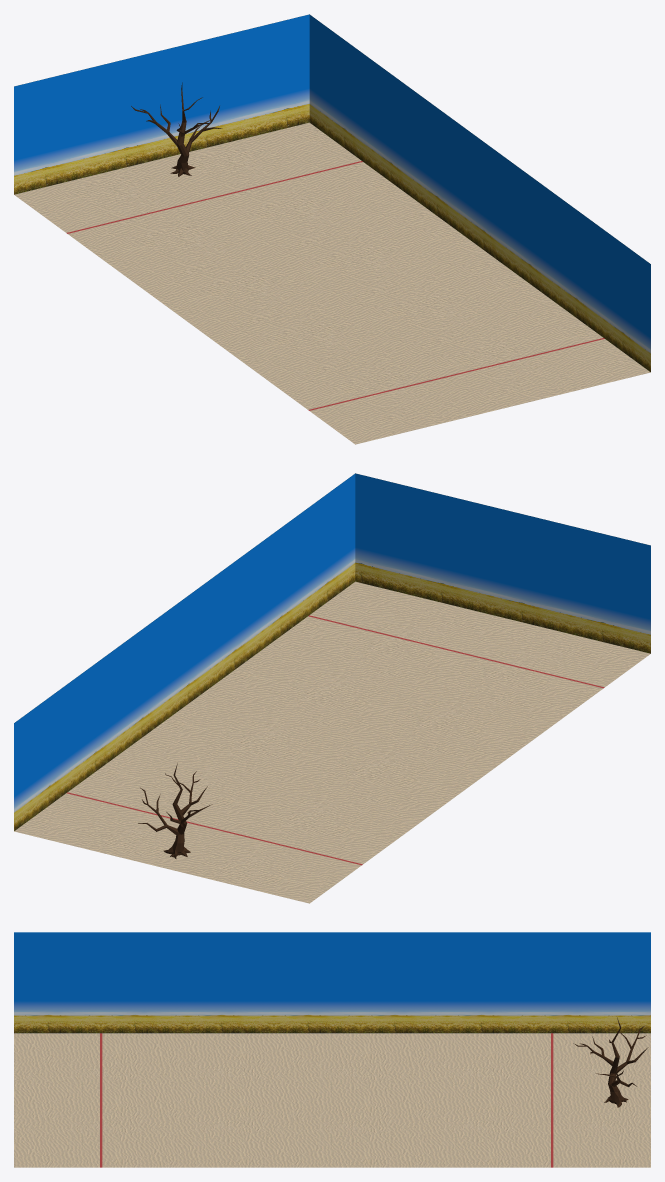
Rendered from squidgame.glb.
3 views of the same model, one above another, from view 1: azimuth 30°, elevation 25°; view 2: azimuth 150°, elevation 25°; view 3: azimuth 270°, elevation 25° (orthographic). The views are drawn at different scales.
Visible parts, largest first — view 1: object 3, object 4, object 2, object 5, Line01; view 2: object 4, object 3, object 2, object 5, Line01; view 3: object 4, object 3, object 2, object 5, Line01, object 1, object 6.
Part boxes in pixels (x1,y1,x2,y2): object 3: (68,162,603,409); object 4: (14,14,650,371); object 2: (14,122,361,232); object 5: (310,339,650,444); Line01: (131,82,222,176); object 4: (14,473,650,830); object 3: (68,616,603,864); object 2: (14,793,361,903); object 5: (310,581,650,687); Line01: (138,763,212,858); object 4: (14,932,650,1033); object 3: (102,1033,550,1167); object 2: (553,1033,650,1167); object 5: (14,1033,99,1167); Line01: (573,1017,648,1107); object 1: (551,1033,553,1167); object 6: (100,1033,102,1167).
Bounding box in the file's own units: 40 × 14.24 × 80.
Materials: 4 (4 with a texture image).
